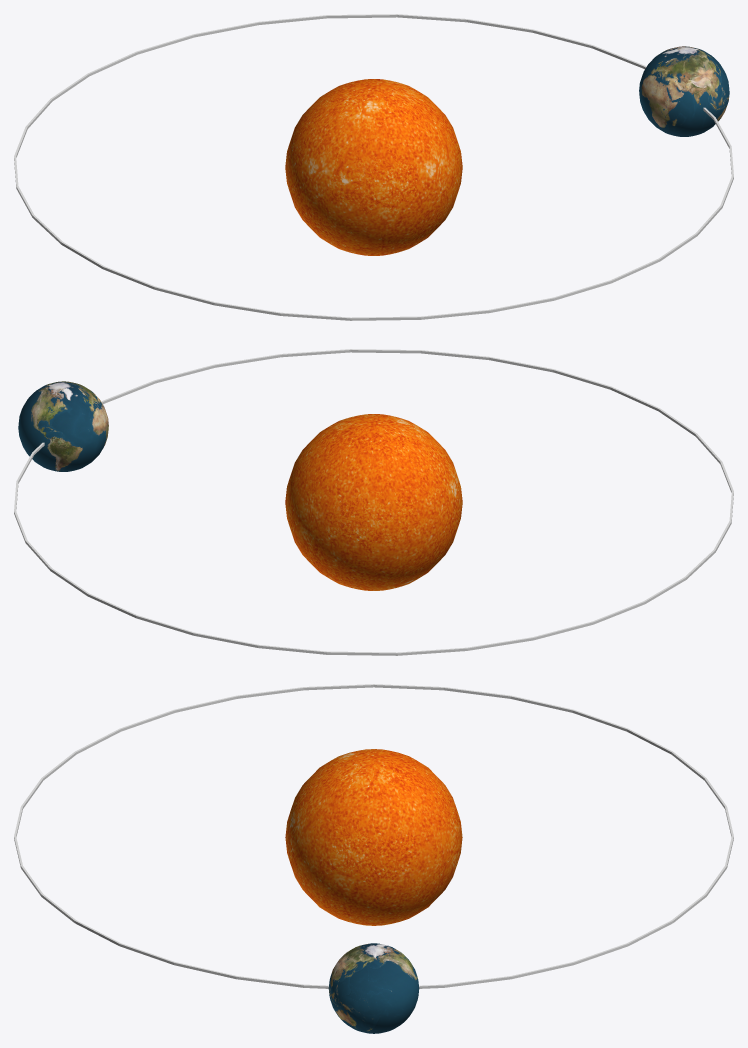
The model's file is 2.Heliosentris.fbx.
3 renders of one model, top to bottom at view 1: azimuth 30°, elevation 25°; view 2: azimuth 150°, elevation 25°; view 3: azimuth 270°, elevation 25°, orthographic.
Parts seen in each view (by area): view 1: Matahari, Bumi.001, Cylinder; view 2: Matahari, Bumi.001, Cylinder; view 3: Matahari, Bumi.001, Cylinder.
Part boxes in pixels (x1,y1,x2,y2): Matahari: [285, 79, 462, 255]; Bumi.001: [639, 46, 729, 136]; Cylinder: [14, 14, 733, 320]; Matahari: [285, 414, 462, 590]; Bumi.001: [18, 381, 108, 471]; Cylinder: [14, 349, 733, 655]; Matahari: [285, 749, 462, 925]; Bumi.001: [328, 943, 419, 1033]; Cylinder: [14, 684, 733, 988].
Size of the model in its own units: 19130 by 4442 by 18054.
